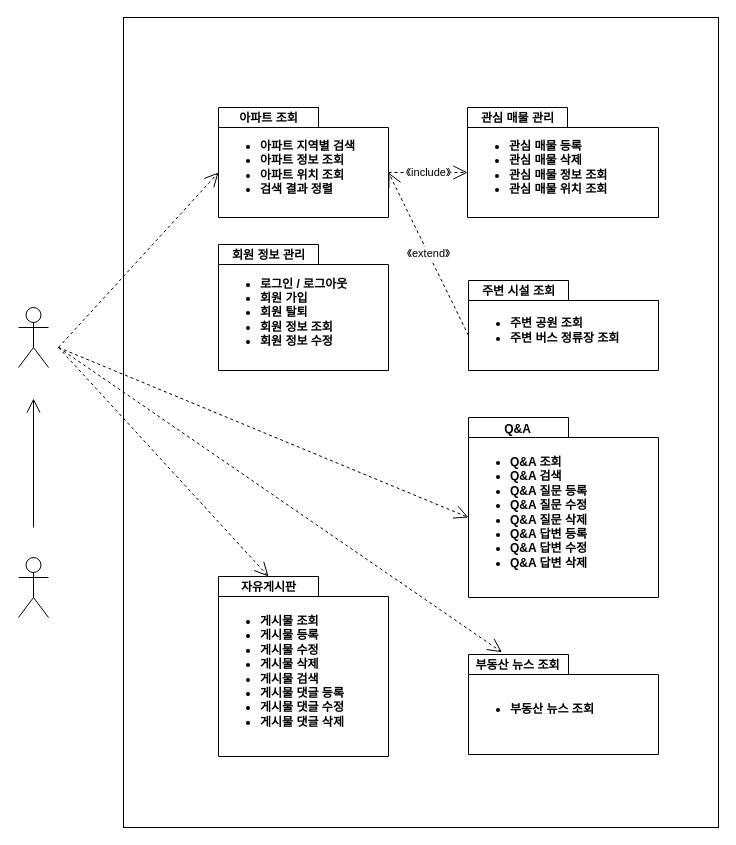
This 736x845 diagram has some shape labels left out. The centre of each missing label's shape, as x and y in pixels:
"관리자" goes at point 33,587.
"사용자" goes at point 33,337.
